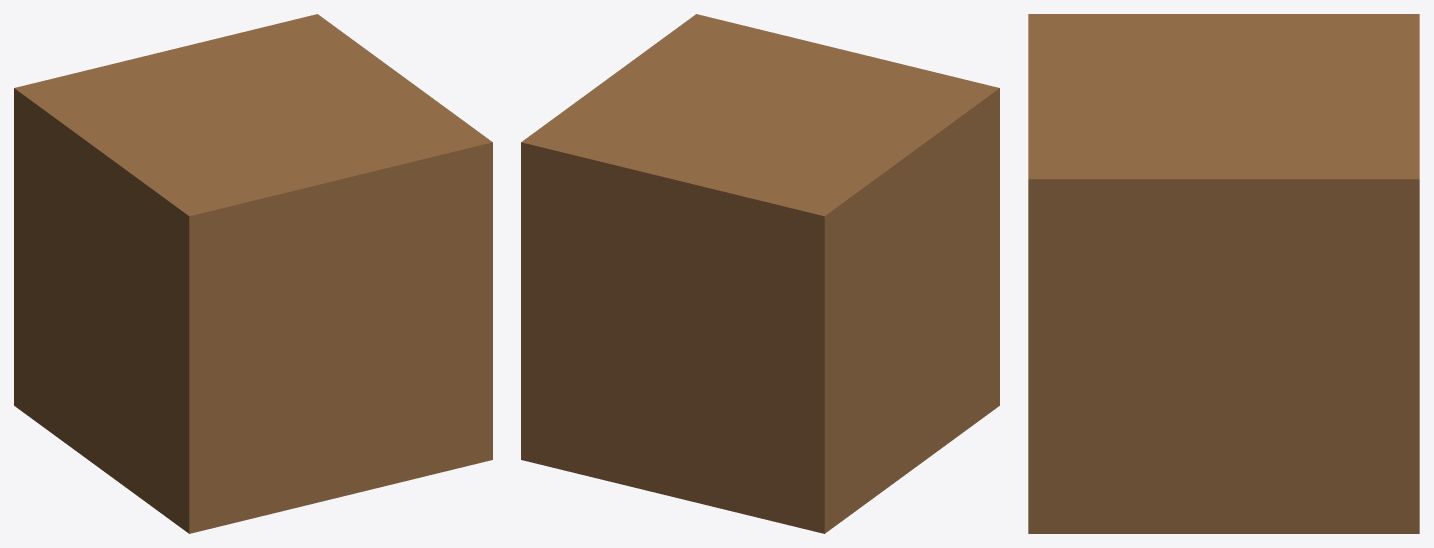
Rendered from floor2.gltf.
3 views of the same model, side by side, from view 1: azimuth 30°, elevation 25°; view 2: azimuth 150°, elevation 25°; view 3: azimuth 270°, elevation 25° (orthographic). The views are drawn at different scales.
Size of the model in its own units: 10 by 10 by 10.
Materials: 1 (1 with a texture image).
